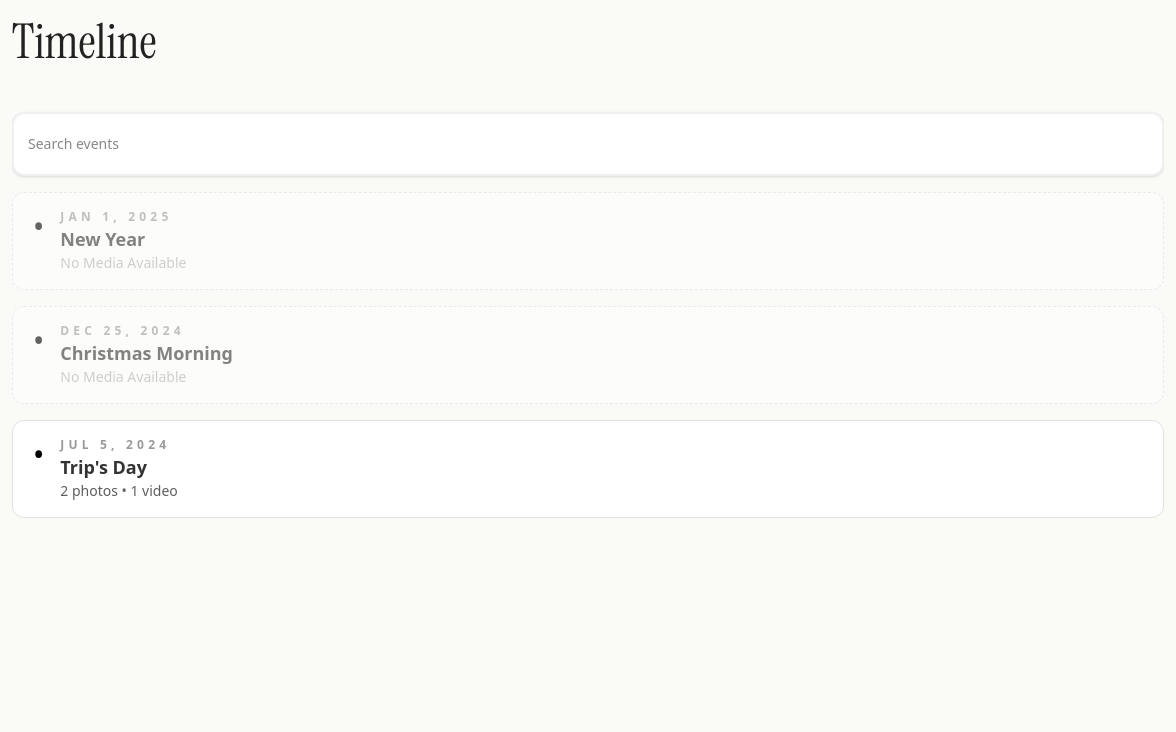
Test: TimelinePage › search bar › filters events by date
In the field labelled "Search events": x=588, y=144 x1=12 y1=112 x2=1164 y2=176, type "2025"
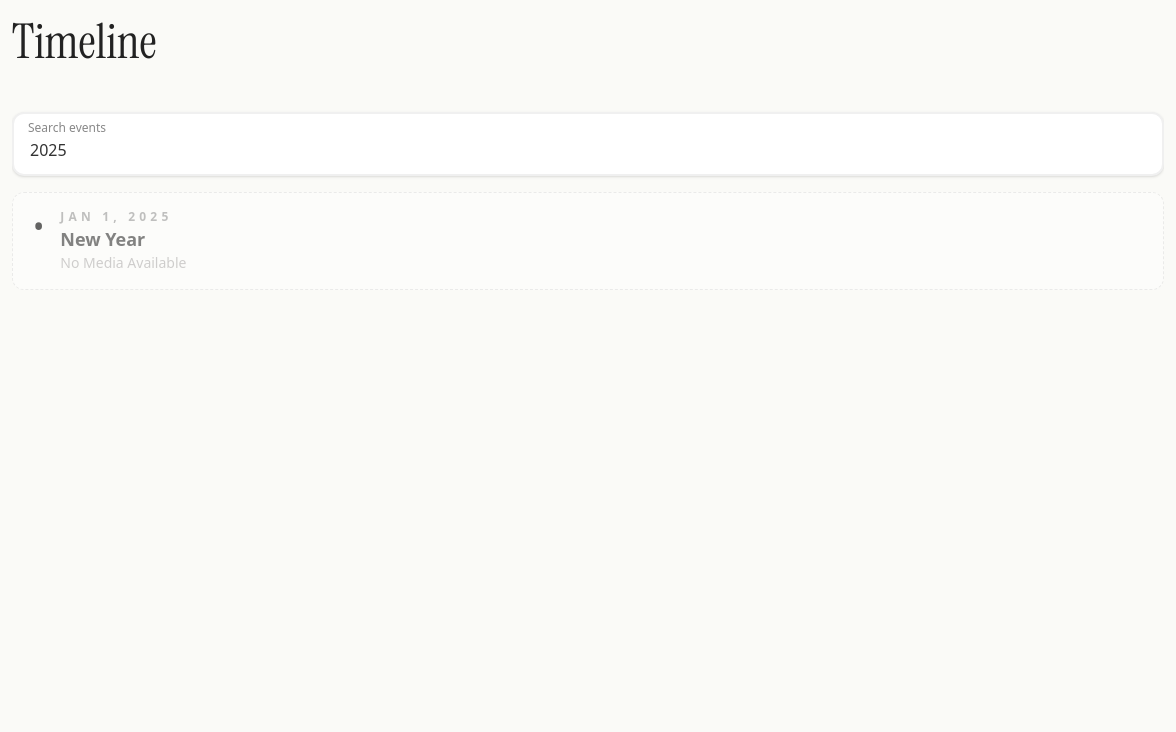
Check: the text "New Year" is shown, box x1=60 y1=227 x2=145 y2=251
Check: the button "Trip's Day" is gone
Check: the button "Christmas Morning" is gone
